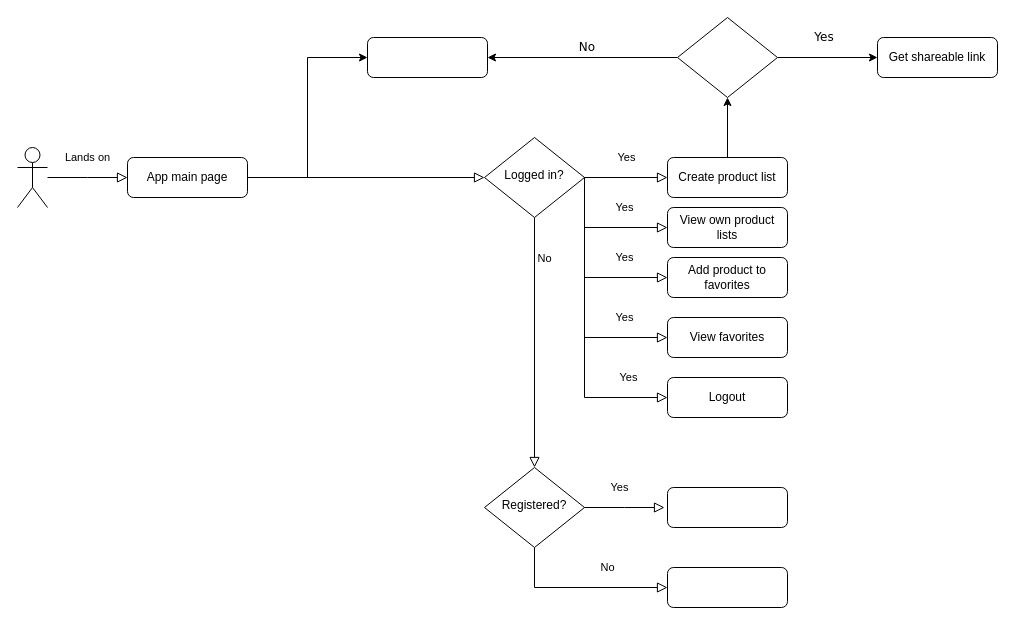
Some shapes in this 1015 by 625 pixel diagram are drawn without their labels. The centre of each missing label's shape, as x and y in pixels:
"Login into existing account" belongs at point 727,507.
"Premium account?" belongs at point 727,57.
"Purchase premium" belongs at point 427,57.
"Register new account" belongs at point 727,587.
"User" belongs at point 32,177.
